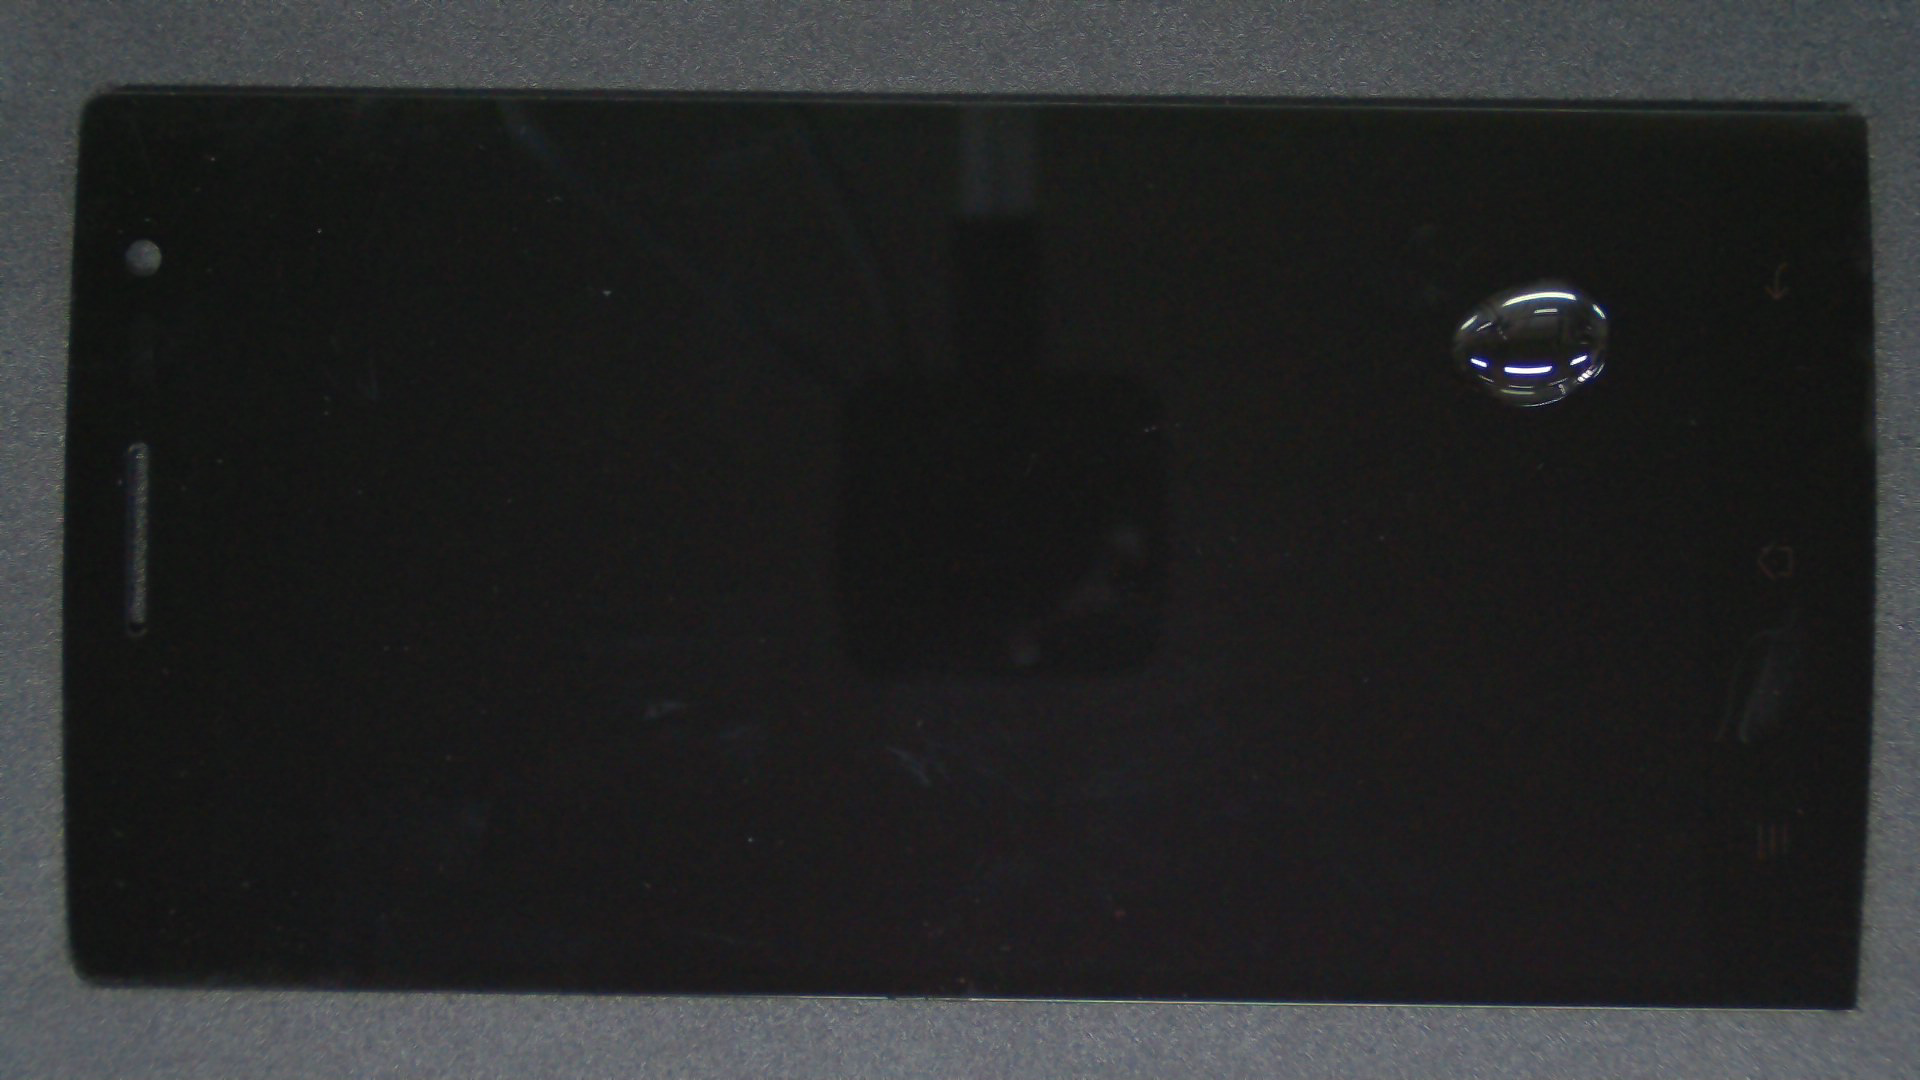defect: (1449, 278, 1609, 407)
